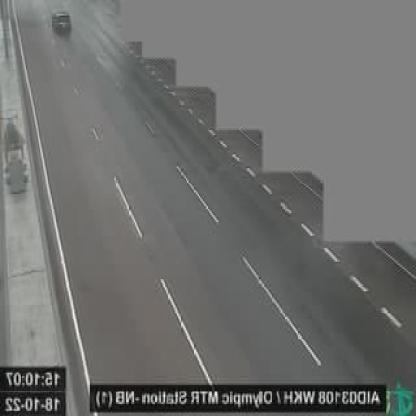Car: (52, 10, 72, 38)
